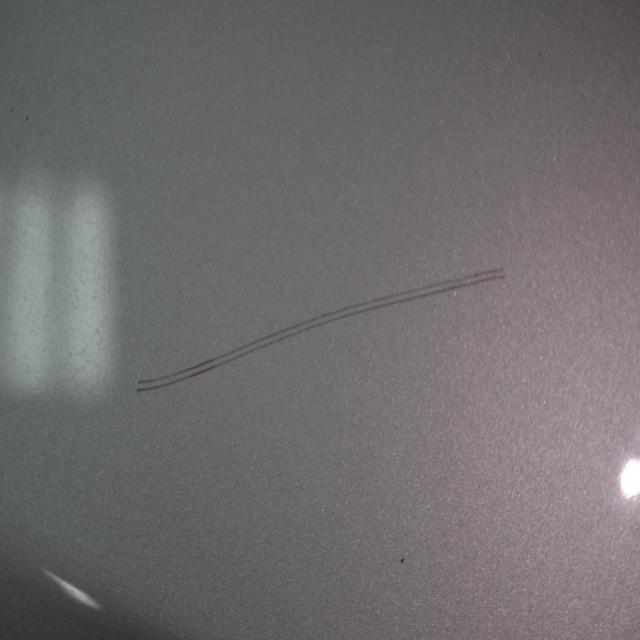dirt: (399, 552, 407, 567), (23, 111, 31, 125), (8, 104, 16, 115)
scratch: (133, 259, 511, 403)
